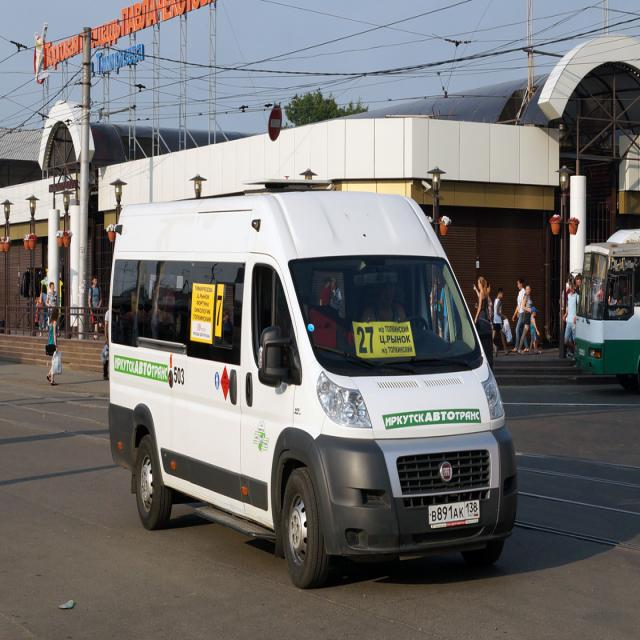number-of-bus: (355, 325, 376, 357)
